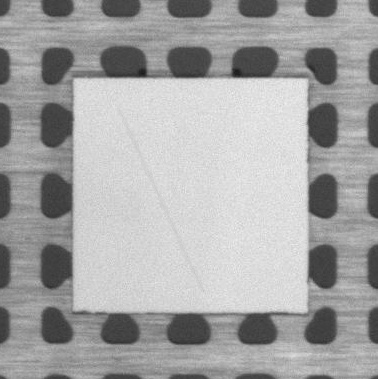DIE_CRACK: (118, 107, 202, 292)
